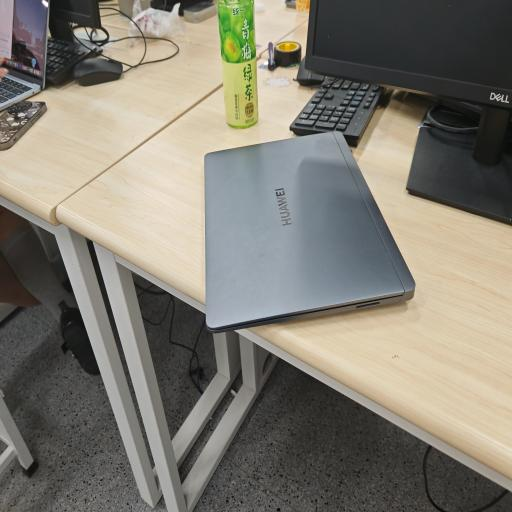laptop: (204, 132, 415, 332), (0, 0, 48, 110), (0, 130, 1, 131)
mouse: (72, 58, 122, 86), (296, 57, 324, 86)
